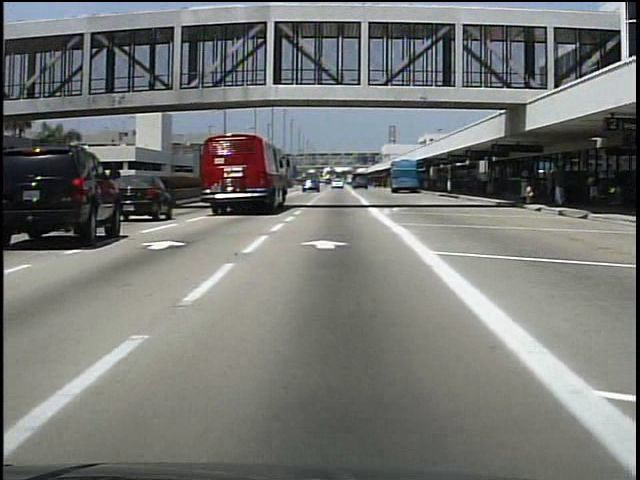person: (584, 169, 602, 213), (476, 168, 487, 193)
